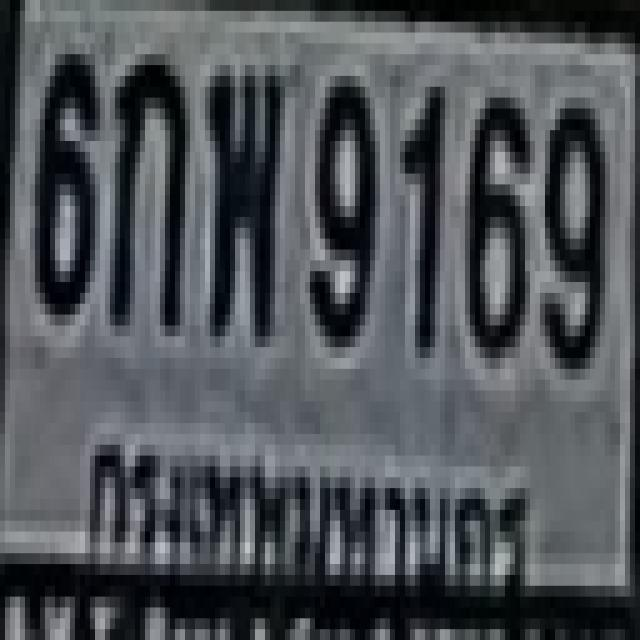-: (105, 44, 185, 326), (205, 60, 280, 331)
1: (400, 76, 440, 347)
6: (30, 49, 95, 309), (465, 87, 525, 347)
9: (308, 65, 372, 336), (540, 98, 600, 358)
BKK: (76, 415, 529, 611)
